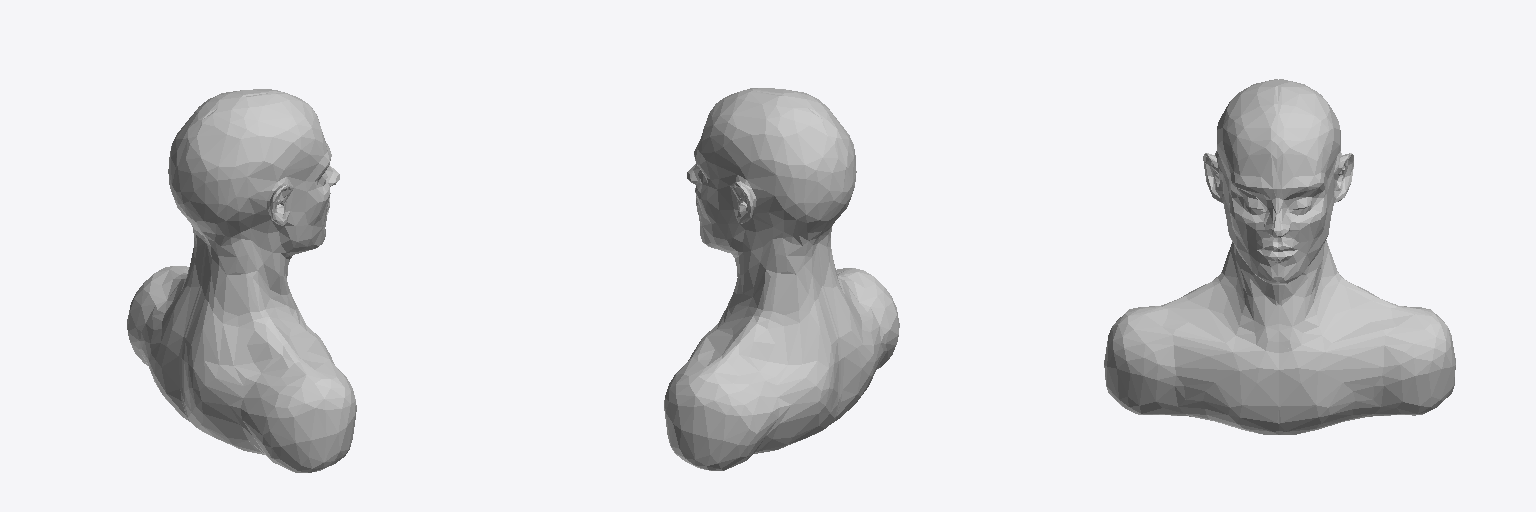
Rendered from annaRaw.obj.
3 renders of one model, left to right at view 1: azimuth 30°, elevation 25°; view 2: azimuth 150°, elevation 25°; view 3: azimuth 270°, elevation 25°, orthographic.
Visible parts, largest first — view 1: Quad_Sphere; view 2: Quad_Sphere; view 3: Quad_Sphere.
Boxes of the visible parts, x1=… form: Quad_Sphere: x1=127, y1=89, x2=356, y2=472; Quad_Sphere: x1=664, y1=88, x2=899, y2=470; Quad_Sphere: x1=1104, y1=79, x2=1455, y2=434.
Size of the model in its own units: 2.15 by 4.11 by 4.01.